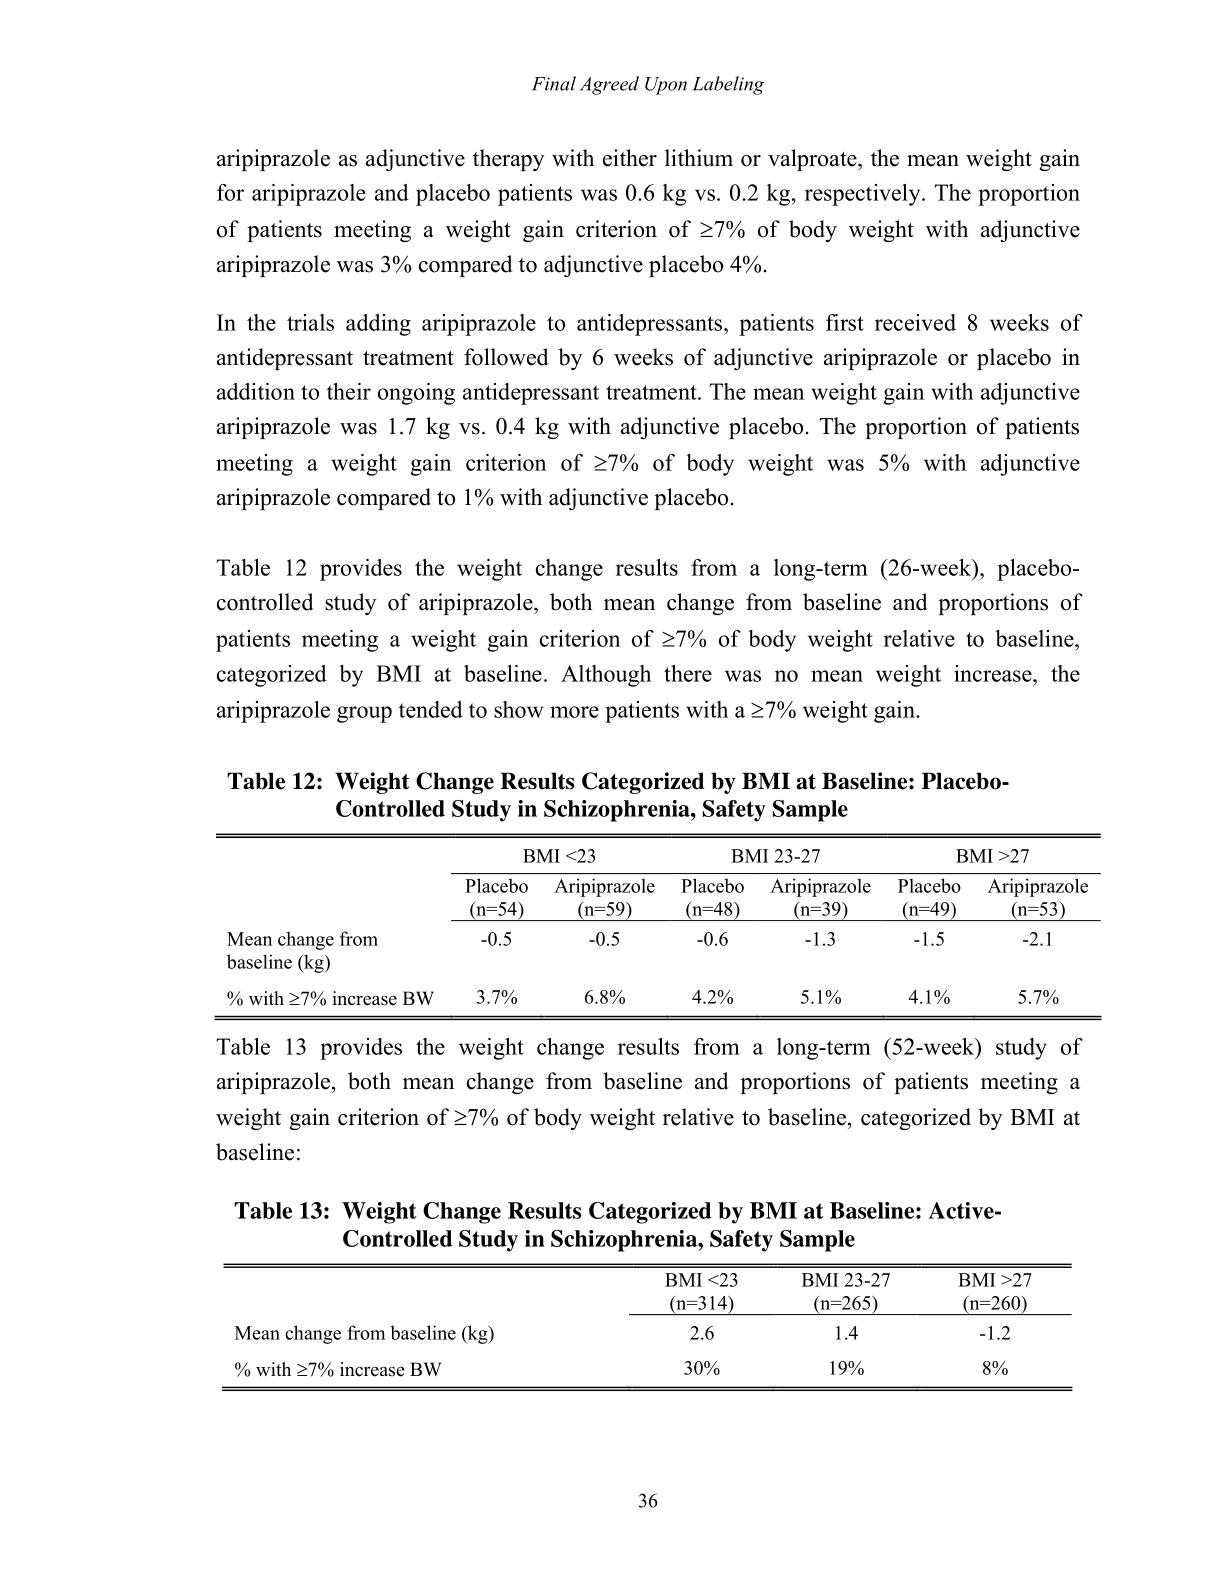partial_lined: (222, 1263, 1074, 1392)
partial_lined_merged_cells: (215, 832, 1106, 1023)
